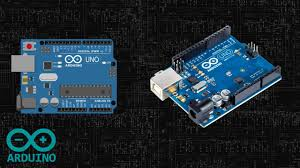arduino: (143, 20, 288, 125)
